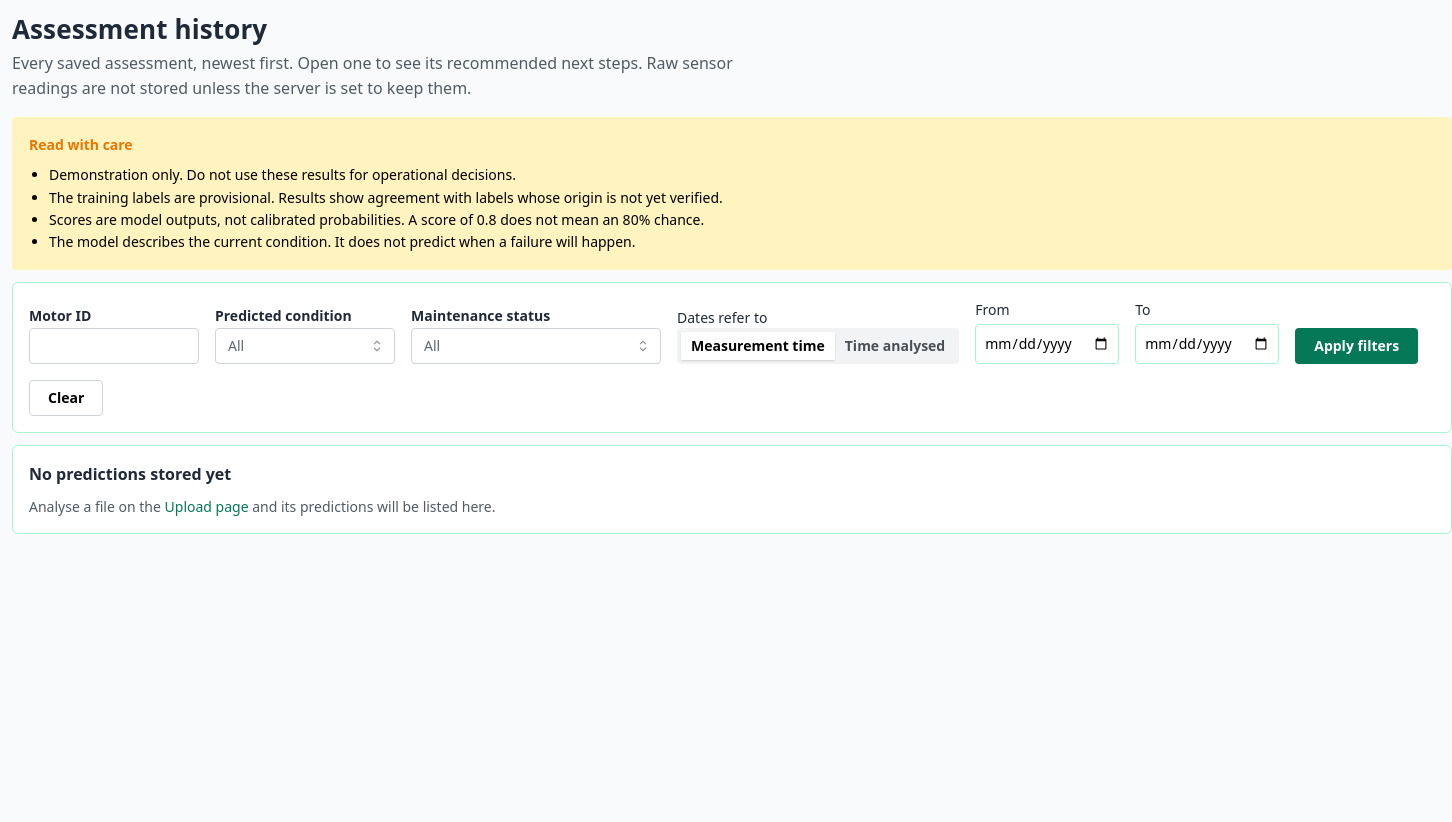
Test: History › blocks an inverted date range
The width and height of the screenshot is (1452, 822).
Expected: the text "No predictions stored yet" is shown, [29,462,231,487]
Type "2025-05-02" into the date field labelled "From" at x=1047, y=344, box [975,324,1119,364]
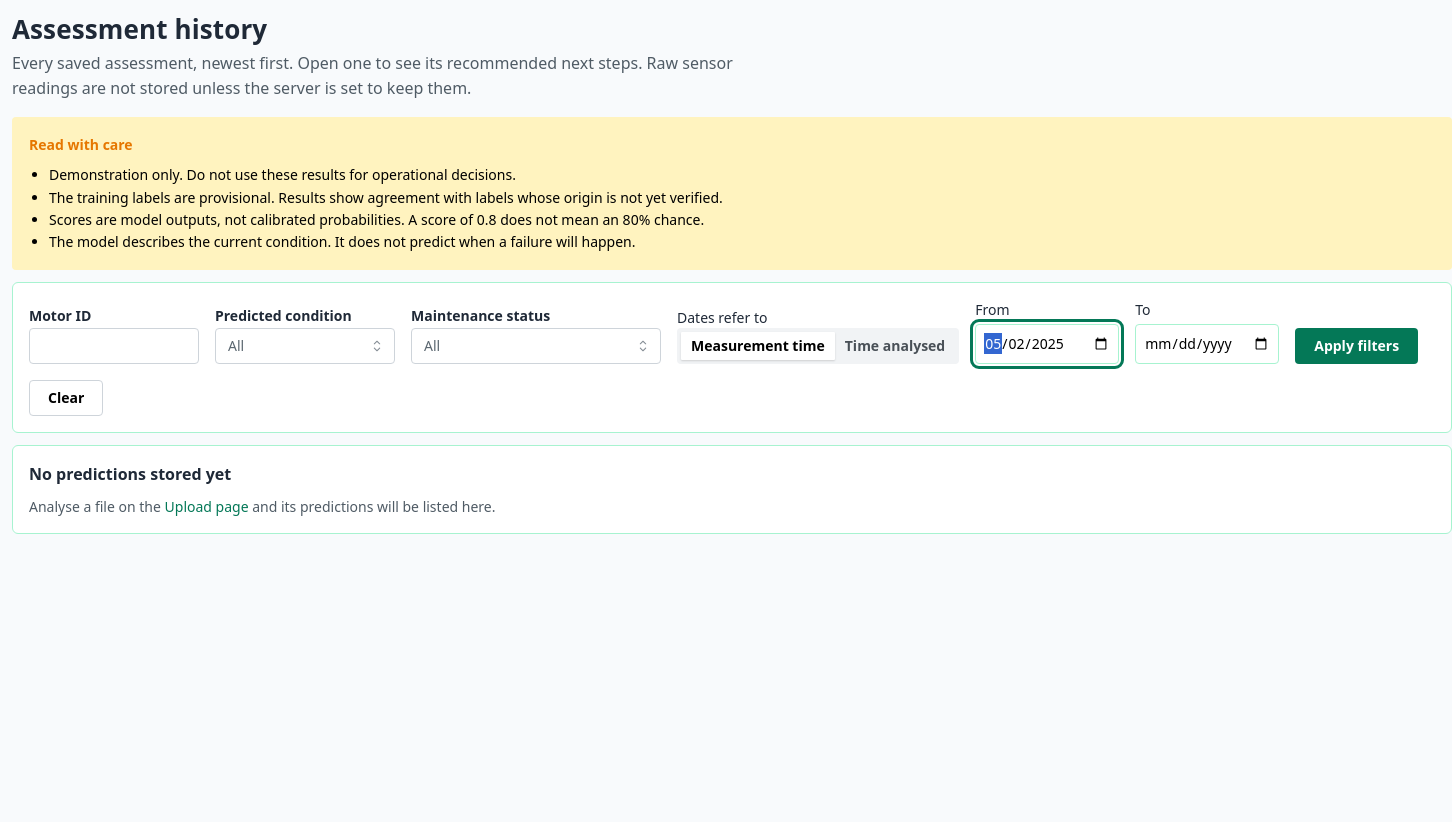
Type "2025-05-01" into the date field labelled "To" at x=1207, y=344, box [1135,324,1279,364]
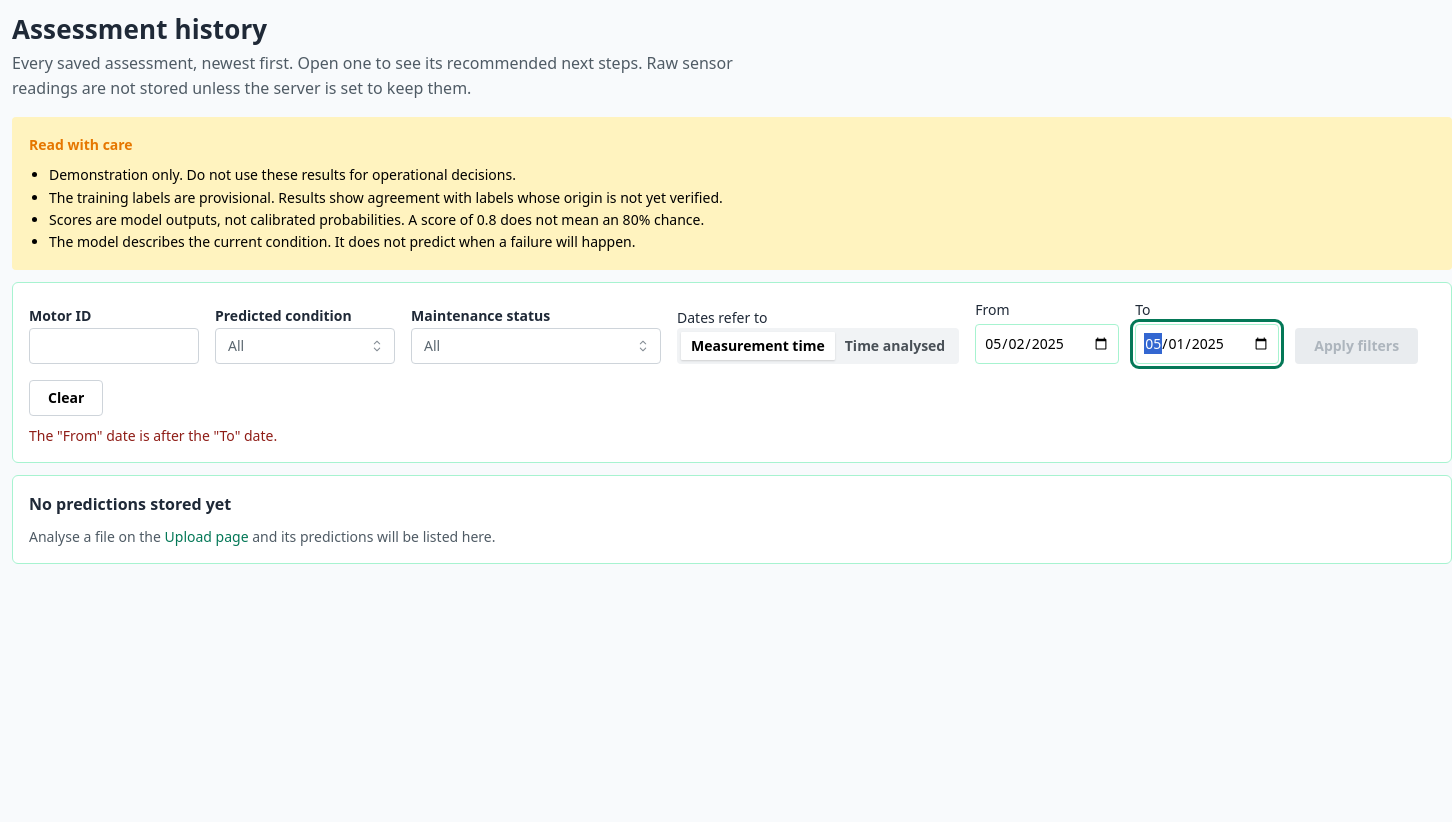
Result: the text "The \"From\" date is after the \"To\" date." is shown at [29,426,277,445]
Result: the button "Apply filters" is disabled at [1295,328,1418,364]
